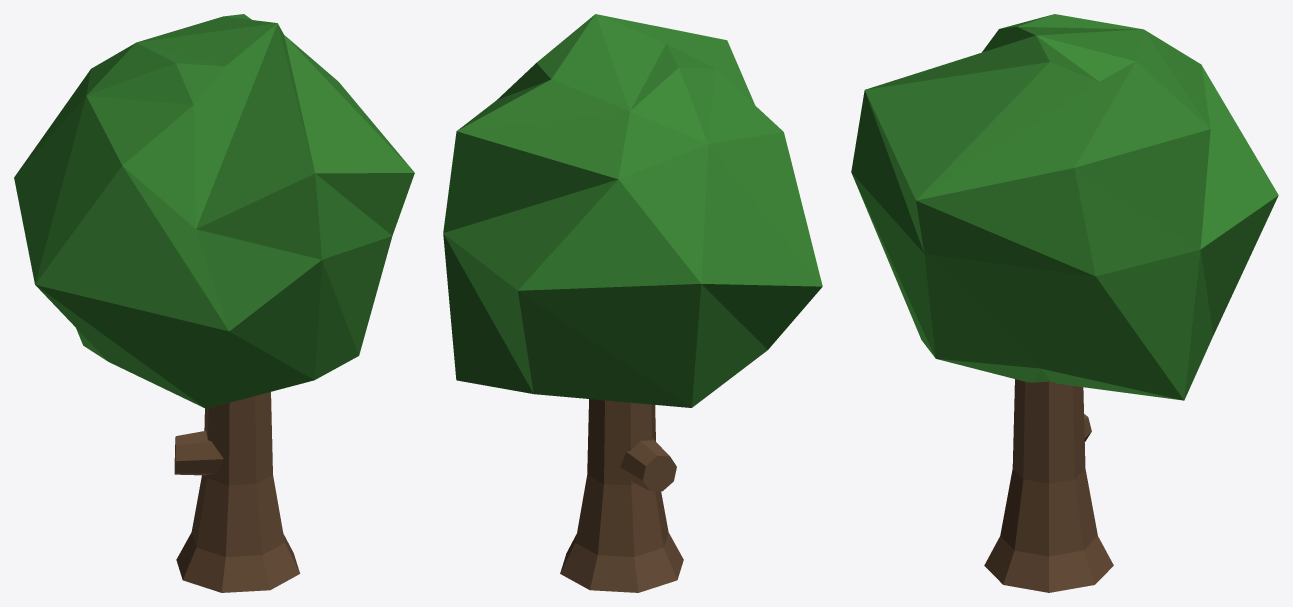
The model's file is Tree2.FBX.
The picture shows the model from 3 angles, left to right: view 1: azimuth 30°, elevation 25°; view 2: azimuth 150°, elevation 25°; view 3: azimuth 270°, elevation 25°; orthographic projection.
Parts seen in each view (by area): view 1: Tree2; view 2: Tree2; view 3: Tree2.
Boxes of the visible parts, x1,y1,x2,y2 form: Tree2: [14, 14, 414, 592]; Tree2: [443, 14, 822, 592]; Tree2: [851, 14, 1278, 592].
Size of the model in its own units: 2.08 by 3.26 by 2.31.
